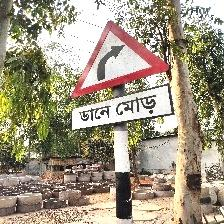Right-turn: (70, 19, 177, 133)
